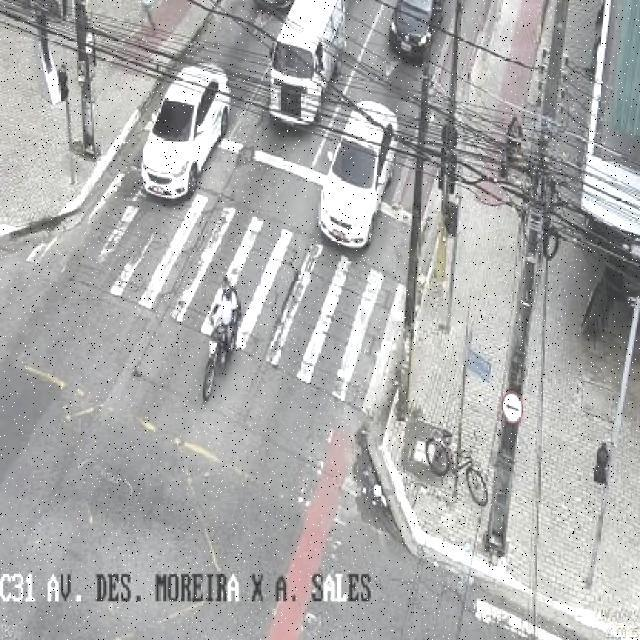Car: (136, 62, 236, 207), (316, 100, 401, 252), (382, 0, 446, 64)
Cycle: (424, 425, 494, 510), (194, 307, 245, 404)
Van: (265, 0, 349, 129)
